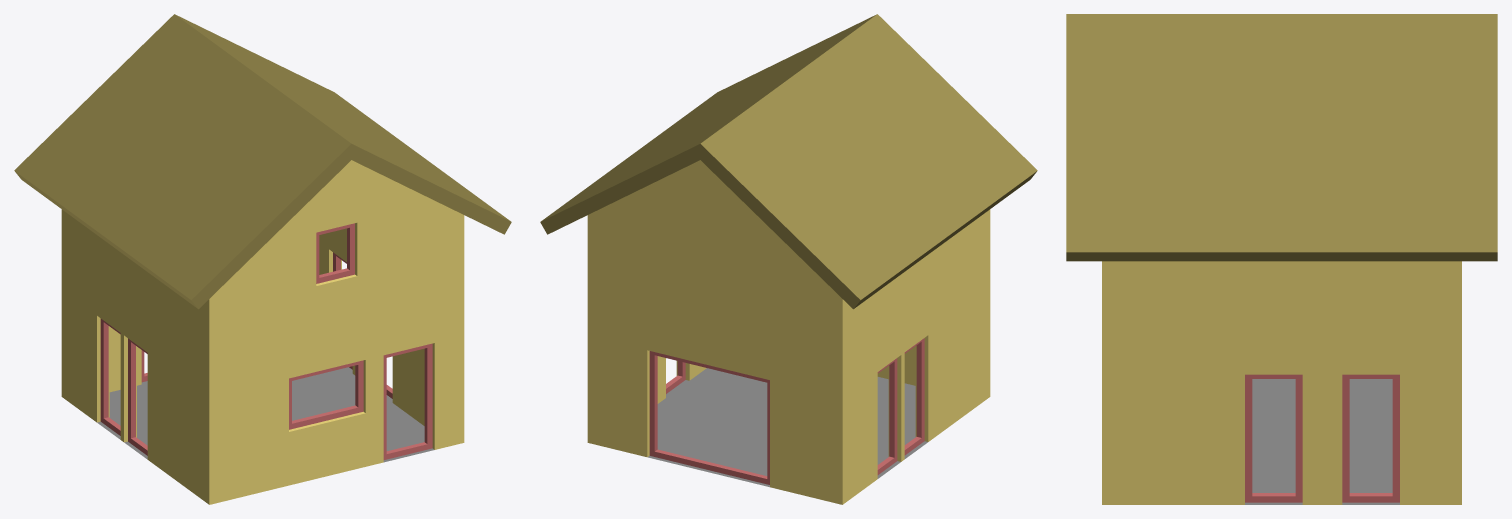
The model's file is result.glb.
The picture shows the model from 3 angles, left to right: view 1: azimuth 30°, elevation 25°; view 2: azimuth 150°, elevation 25°; view 3: azimuth 270°, elevation 25°; orthographic projection. The views are drawn at different scales.
Parts seen in each view (by area): view 1: de9a9299-a25a-4b5e-b8d6-7269a214f290__undefined, 17e55dbd-aec5-44c8-b625-1816bfe52385__undefined (×2), 8ecb5dde-8953-44b0-ad73-4050a4fe9e76__Plane_12, ee2aeaf5-2f2b-4d7b-b438-675e2510b705__Box, 02616931-8e45-4d4c-927b-e90aa7f08d8b__Box_3, 2913157a-5120-4b45-bb54-582b922af3c8__Box_15, 25e60e76-25c7-4654-a242-f7b78d56eeb7__Box_12, a71e4239-accf-4ee7-bd7e-9be80769973a__Box_6; view 2: de9a9299-a25a-4b5e-b8d6-7269a214f290__undefined, 17e55dbd-aec5-44c8-b625-1816bfe52385__undefined (×2), 8ecb5dde-8953-44b0-ad73-4050a4fe9e76__Plane_12, 800d889b-04f1-498b-9db0-6f4eb1c3ba0e__Box_9, 25e60e76-25c7-4654-a242-f7b78d56eeb7__Box_12, 2913157a-5120-4b45-bb54-582b922af3c8__Box_15; view 3: 17e55dbd-aec5-44c8-b625-1816bfe52385__undefined, de9a9299-a25a-4b5e-b8d6-7269a214f290__undefined, 8ecb5dde-8953-44b0-ad73-4050a4fe9e76__Plane_12, de4044fc-5777-4b92-8185-ff2d4c9f1b4c__Box_24, 4bd75368-de12-490e-ba47-05c74e510f4d__Box_27.
Part boxes in pixels (left/top/right/bottom): de9a9299-a25a-4b5e-b8d6-7269a214f290__undefined: left=61, top=160, right=464, bottom=504; 17e55dbd-aec5-44c8-b625-1816bfe52385__undefined (×2): left=14, top=14, right=511, bottom=309; 8ecb5dde-8953-44b0-ad73-4050a4fe9e76__Plane_12: left=97, top=367, right=434, bottom=462; ee2aeaf5-2f2b-4d7b-b438-675e2510b705__Box: left=383, top=343, right=432, bottom=459; 02616931-8e45-4d4c-927b-e90aa7f08d8b__Box_3: left=289, top=360, right=363, bottom=429; 2913157a-5120-4b45-bb54-582b922af3c8__Box_15: left=100, top=318, right=120, bottom=435; 25e60e76-25c7-4654-a242-f7b78d56eeb7__Box_12: left=128, top=338, right=147, bottom=455; a71e4239-accf-4ee7-bd7e-9be80769973a__Box_6: left=316, top=223, right=354, bottom=283; de9a9299-a25a-4b5e-b8d6-7269a214f290__undefined: left=587, top=160, right=990, bottom=504; 17e55dbd-aec5-44c8-b625-1816bfe52385__undefined (×2): left=540, top=14, right=1037, bottom=309; 8ecb5dde-8953-44b0-ad73-4050a4fe9e76__Plane_12: left=648, top=368, right=927, bottom=487; 800d889b-04f1-498b-9db0-6f4eb1c3ba0e__Box_9: left=649, top=351, right=769, bottom=484; 25e60e76-25c7-4654-a242-f7b78d56eeb7__Box_12: left=904, top=338, right=924, bottom=455; 2913157a-5120-4b45-bb54-582b922af3c8__Box_15: left=877, top=358, right=897, bottom=474; 17e55dbd-aec5-44c8-b625-1816bfe52385__undefined: left=1066, top=14, right=1497, bottom=261; de9a9299-a25a-4b5e-b8d6-7269a214f290__undefined: left=1102, top=261, right=1461, bottom=504; 8ecb5dde-8953-44b0-ad73-4050a4fe9e76__Plane_12: left=1245, top=379, right=1399, bottom=504; de4044fc-5777-4b92-8185-ff2d4c9f1b4c__Box_24: left=1245, top=374, right=1302, bottom=502; 4bd75368-de12-490e-ba47-05c74e510f4d__Box_27: left=1342, top=374, right=1399, bottom=502.
Bounding box in the file's own units: 627 × 637 × 600.
